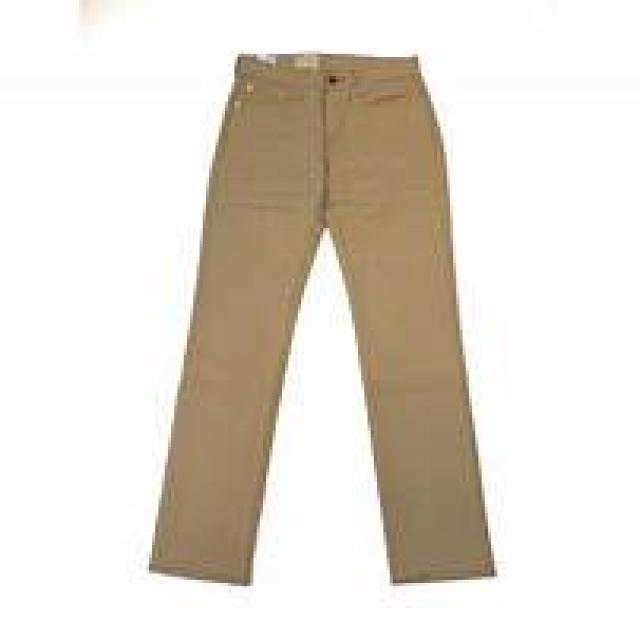long-pants: (152, 53, 498, 587)
